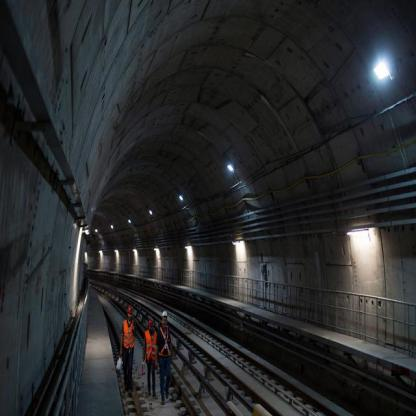person: (116, 301, 138, 398), (155, 309, 174, 405), (140, 316, 158, 401)
red-helm: (126, 304, 134, 314), (147, 316, 155, 326)
vest-helm: (142, 328, 157, 362), (122, 318, 136, 348)
white-helm: (160, 309, 168, 318)
